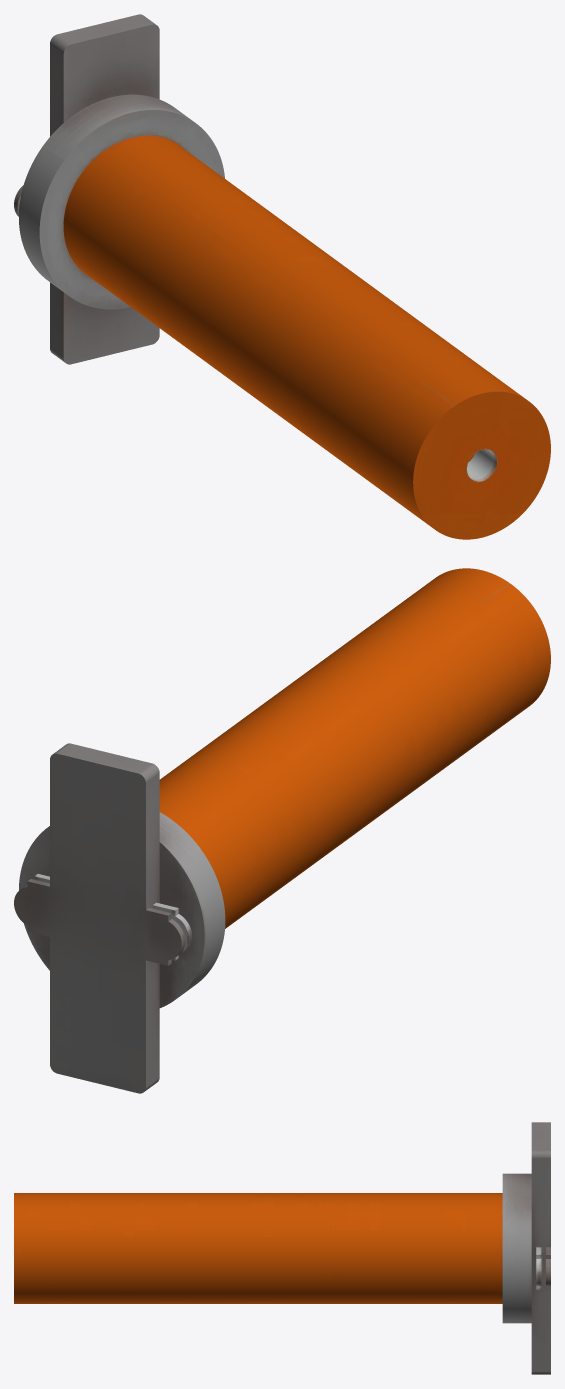
Rendered from pump_body__body_shell.glb.
3 views of the same model, one above another, from view 1: azimuth 30°, elevation 25°; view 2: azimuth 150°, elevation 25°; view 3: azimuth 270°, elevation 25° (orthographic). The views are drawn at different scales.
Parts seen in each view (by area): view 1: geometry_0; view 2: geometry_0; view 3: geometry_0.
Boxes of the visible parts, x1,y1,x2,y2 form: geometry_0: (14,14,550,539); geometry_0: (14,568,550,1093); geometry_0: (14,1122,550,1374).
Bounding box in the file's own units: 0.062 × 0.102 × 0.222.
Materials: 1 (1 with a texture image).
